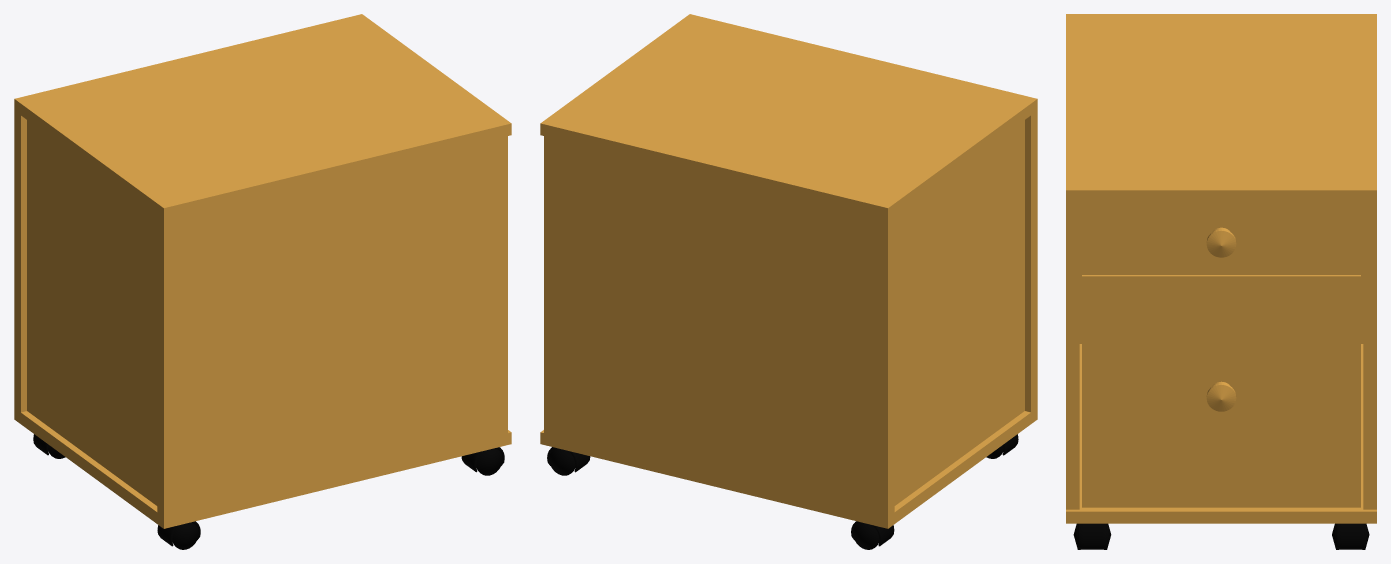
File: driving_cabinet_2d.dae
3 renders of one model, left to right at view 1: azimuth 30°, elevation 25°; view 2: azimuth 150°, elevation 25°; view 3: azimuth 270°, elevation 25°, orthographic. The views are drawn at different scales.
Parts seen in each view (by area): view 1: Cube; view 2: Cube; view 3: Cube.
Boxes of the visible parts, x1,y1,x2,y2 form: Cube: (14, 14, 511, 549); Cube: (540, 14, 1037, 549); Cube: (1066, 14, 1376, 549).
Bounding box in the file's own units: 0.571 × 0.414 × 0.5383.
